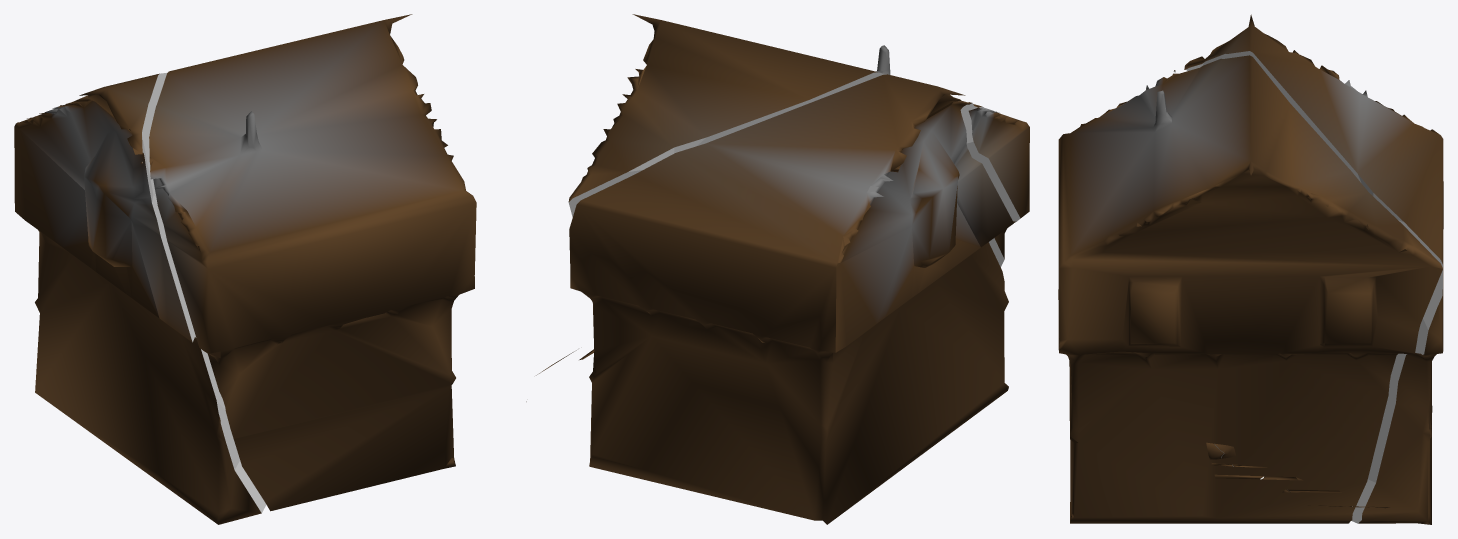
The model's file is Medieval Houses(2).glb.
3 renders of one model, left to right at view 1: azimuth 30°, elevation 25°; view 2: azimuth 150°, elevation 25°; view 3: azimuth 270°, elevation 25°, orthographic.
Visible parts, largest first — view 1: Root.008, Root.001; view 2: Root.001, Root.008; view 3: Root.008, Root.001.
Boxes of the visible parts, left/top/right/bottom form: Root.008: left=149, top=14, right=476, bottom=511; Root.001: left=14, top=72, right=266, bottom=524; Root.001: left=569, top=74, right=1013, bottom=524; Root.008: left=568, top=14, right=1029, bottom=267; Root.008: left=1058, top=55, right=1442, bottom=523; Root.001: left=1184, top=14, right=1443, bottom=524.
Bounding box in the file's own units: 12.61 × 12.15 × 11.34.
